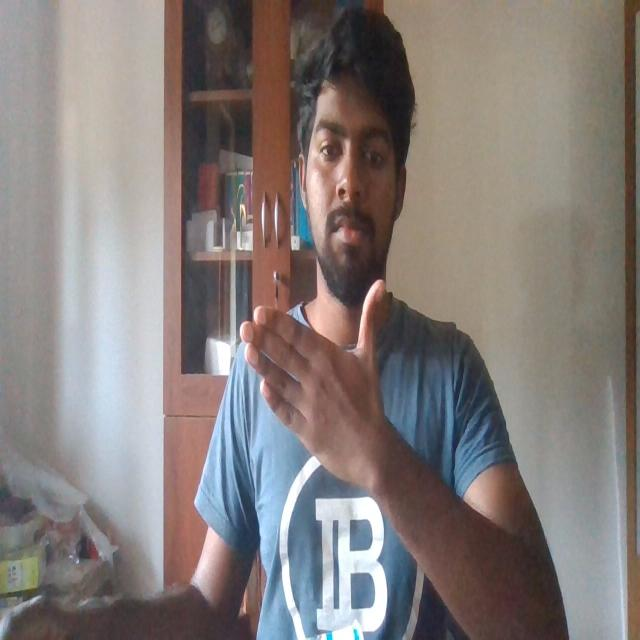Please: (237, 273, 402, 481)
